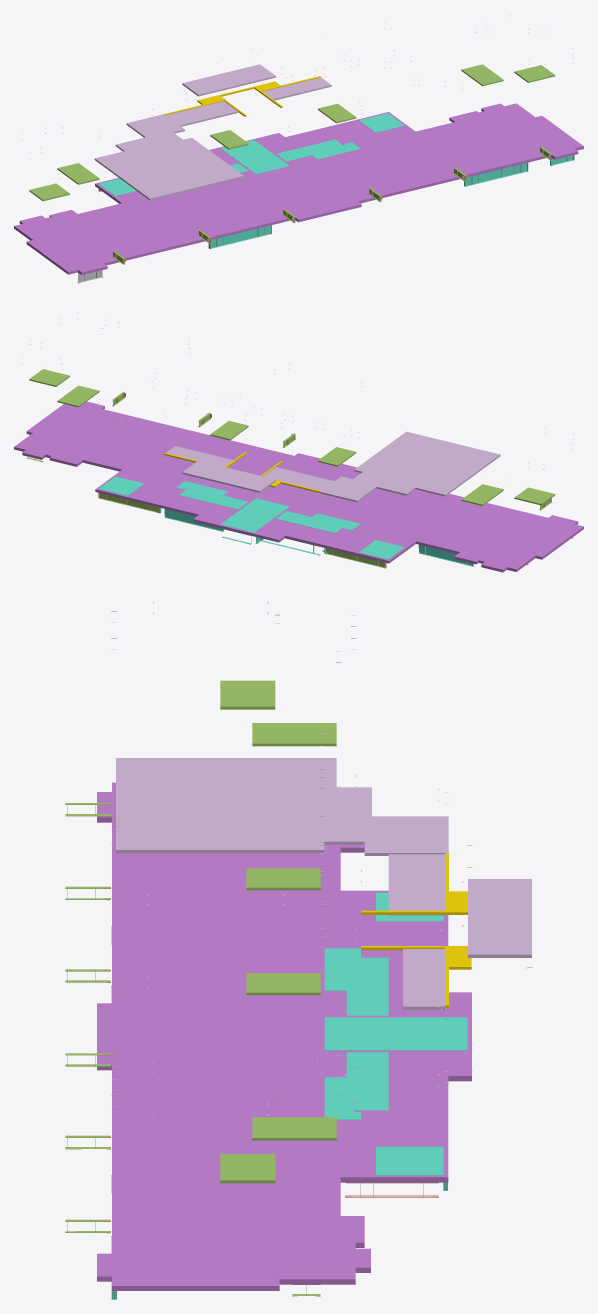
3 views of the same model, one above another, from view 1: azimuth 30°, elevation 25°; view 2: azimuth 150°, elevation 25°; view 3: azimuth 270°, elevation 25° (orthographic). The views are drawn at different scales.
Visible parts, largest first — view 1: SLAB[1UgYAp0005ZJ4rE3WoCp4q], SLAB[1Ufth9000mZp4rE3WmDJSt], SLAB[1Ufth9000Tvp4rE3WmD3Kr], CUTPART[1UiWQb0000vJ4rE3WtCZSn], CUTPART[1UiWQb0002wZ4rE3WtCZWp], SLAB[1Ufth9000TqZ4rE3WmD3Gv], SLAB[1Ufth9000TkZ4rE3WmD38v], SLAB[1Ufth9000TrZ4rE3WmD3Gv], 18-1GKL5A[1UeED5000NxZ4rE3SsCpCm], 18-1GKL5A[1UeED5000NuZ4rE3SsCpCm], SLAB[1Ufth9000TtZ4rE3WmD3Kn], SLAB[1Ufth9000ToZ4rE3WmD3Gr] (+6 smaller); view 2: SLAB[1UgYAp0005ZJ4rE3WoCp4q], SLAB[1Ufth9000mZp4rE3WmDJSt], SLAB[1Ufth9000Tvp4rE3WmD3Kr], CUTPART[1UiWQb0000vJ4rE3WtCZSn], CUTPART[1UiWQb0000t34rE3WtCZOt], CUTPART[1UiWQb0002wZ4rE3WtCZWp], SLAB[1Ufth9000TqZ4rE3WmD3Gv], SLAB[1Ufth9000TrZ4rE3WmD3Gv], SLAB[1Ufth9000TtZ4rE3WmD3Kn], SLAB[1Ufth9000ToZ4rE3WmD3Gr], CUTPART[1UiWQb0000u34rE3WtCZOv], CUTPART[1UiWQb0002xZ4rE3WtCZWp] (+9 smaller); view 3: SLAB[1UgYAp0005ZJ4rE3WoCp4q], SLAB[1Ufth9000mZp4rE3WmDJSt], SLAB[1Ufth9000Tvp4rE3WmD3Kr], CUTPART[1UiWQb0000vJ4rE3WtCZSn], CUTPART[1UiWQb0000t34rE3WtCZOt], CUTPART[1UiWQb0002wZ4rE3WtCZWp], SLAB[1Ufth9000TqZ4rE3WmD3Gv], SLAB[1Ufth9000TrZ4rE3WmD3Gv], SLAB[1Ufth9000TkZ4rE3WmD38v], CUTPART[1UiWQb0002xZ4rE3WtCZWp], SLAB[1Ufth9000TtZ4rE3WmD3Kn], SLAB[1Ufth9000ToZ4rE3WmD3Gr] (+4 smaller).
Boxes of the visible parts, left/top/right/bottom form: SLAB[1UgYAp0005ZJ4rE3WoCp4q]: left=14, top=103, right=583, bottom=274; SLAB[1Ufth9000mZp4rE3WmDJSt]: left=94, top=114, right=243, bottom=200; SLAB[1Ufth9000Tvp4rE3WmD3Kr]: left=182, top=64, right=275, bottom=96; CUTPART[1UiWQb0000vJ4rE3WtCZSn]: left=220, top=140, right=289, bottom=174; CUTPART[1UiWQb0002wZ4rE3WtCZWp]: left=276, top=139, right=360, bottom=161; SLAB[1Ufth9000TqZ4rE3WmD3Gv]: left=166, top=101, right=237, bottom=126; SLAB[1Ufth9000TkZ4rE3WmD38v]: left=164, top=76, right=320, bottom=116; SLAB[1Ufth9000TrZ4rE3WmD3Gv]: left=263, top=77, right=331, bottom=100; 18-1GKL5A[1UeED5000NxZ4rE3SsCpCm]: left=464, top=162, right=527, bottom=186; 18-1GKL5A[1UeED5000NuZ4rE3SsCpCm]: left=209, top=225, right=270, bottom=248; SLAB[1Ufth9000TtZ4rE3WmD3Kn]: left=461, top=64, right=503, bottom=86; SLAB[1Ufth9000ToZ4rE3WmD3Gr]: left=57, top=163, right=99, bottom=184; SLAB[1UgYAp0005ZJ4rE3WoCp4q]: left=14, top=401, right=583, bottom=572; SLAB[1Ufth9000mZp4rE3WmDJSt]: left=320, top=431, right=500, bottom=502; SLAB[1Ufth9000Tvp4rE3WmD3Kr]: left=182, top=460, right=275, bottom=492; CUTPART[1UiWQb0000vJ4rE3WtCZSn]: left=220, top=498, right=289, bottom=532; CUTPART[1UiWQb0000t34rE3WtCZOt]: left=276, top=511, right=360, bottom=532; CUTPART[1UiWQb0002wZ4rE3WtCZWp]: left=176, top=481, right=248, bottom=509; SLAB[1Ufth9000TqZ4rE3WmD3Gv]: left=263, top=467, right=333, bottom=490; SLAB[1Ufth9000TrZ4rE3WmD3Gv]: left=166, top=446, right=233, bottom=466; SLAB[1Ufth9000TtZ4rE3WmD3Kn]: left=57, top=385, right=99, bottom=407; SLAB[1Ufth9000ToZ4rE3WmD3Gr]: left=461, top=484, right=503, bottom=505; CUTPART[1UiWQb0000u34rE3WtCZOv]: left=359, top=540, right=404, bottom=559; CUTPART[1UiWQb0002xZ4rE3WtCZWp]: left=98, top=476, right=144, bottom=495; SLAB[1UgYAp0005ZJ4rE3WoCp4q]: left=97, top=782, right=471, bottom=1290; SLAB[1Ufth9000mZp4rE3WmDJSt]: left=116, top=758, right=448, bottom=855; SLAB[1Ufth9000Tvp4rE3WmD3Kr]: left=468, top=879, right=531, bottom=957; CUTPART[1UiWQb0000vJ4rE3WtCZSn]: left=324, top=1017, right=467, bottom=1050; CUTPART[1UiWQb0000t34rE3WtCZOt]: left=324, top=948, right=388, bottom=1015; CUTPART[1UiWQb0002wZ4rE3WtCZWp]: left=324, top=1052, right=388, bottom=1119; SLAB[1Ufth9000TqZ4rE3WmD3Gv]: left=388, top=854, right=444, bottom=915; SLAB[1Ufth9000TrZ4rE3WmD3Gv]: left=403, top=949, right=444, bottom=1009; SLAB[1Ufth9000TkZ4rE3WmD38v]: left=361, top=853, right=471, bottom=1007; CUTPART[1UiWQb0002xZ4rE3WtCZWp]: left=376, top=1146, right=443, bottom=1175; SLAB[1Ufth9000TtZ4rE3WmD3Kn]: left=252, top=1117, right=336, bottom=1140; SLAB[1Ufth9000ToZ4rE3WmD3Gr]: left=252, top=723, right=336, bottom=746.
Bounding box in the file's own units: 39.64 × 7.66 × 15.53.
